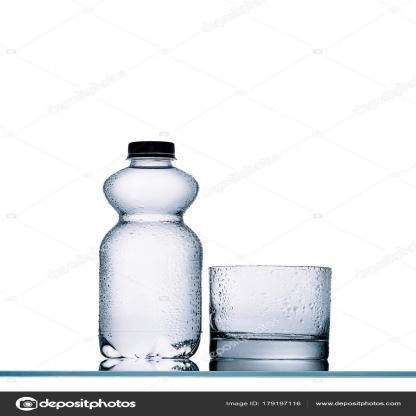bottle: (86, 124, 212, 369)
